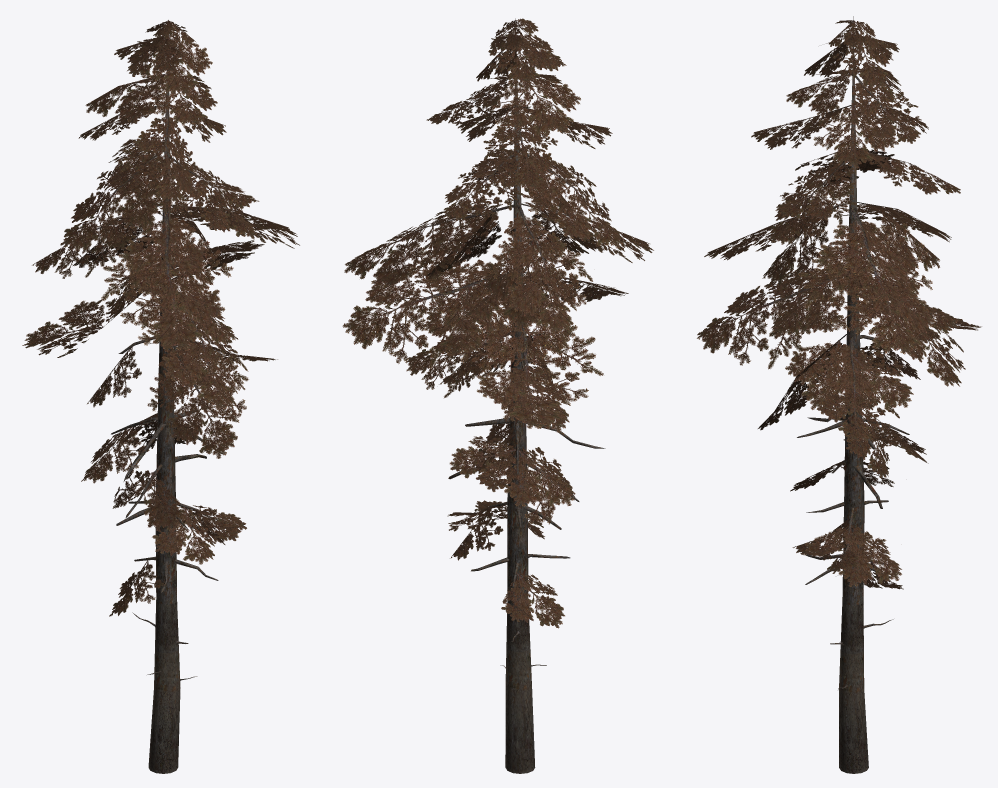
Rendered from trees_sosna_1_red_01_low_LOD0.fbx.
3 views of the same model, side by side, from view 1: azimuth 30°, elevation 25°; view 2: azimuth 150°, elevation 25°; view 3: azimuth 270°, elevation 25° (orthographic).
Parts seen in each view (by area): view 1: trees_sosna_1_red_01_low_LOD0; view 2: trees_sosna_1_red_01_low_LOD0; view 3: trees_sosna_1_red_01_low_LOD0.
Part boxes in pixels (left/top/right/bottom): trees_sosna_1_red_01_low_LOD0: left=22, top=20, right=299, bottom=773; trees_sosna_1_red_01_low_LOD0: left=342, top=18, right=653, bottom=773; trees_sosna_1_red_01_low_LOD0: left=697, top=16, right=981, bottom=773.
Size of the model in its own units: 1059 by 2841 by 1009.
